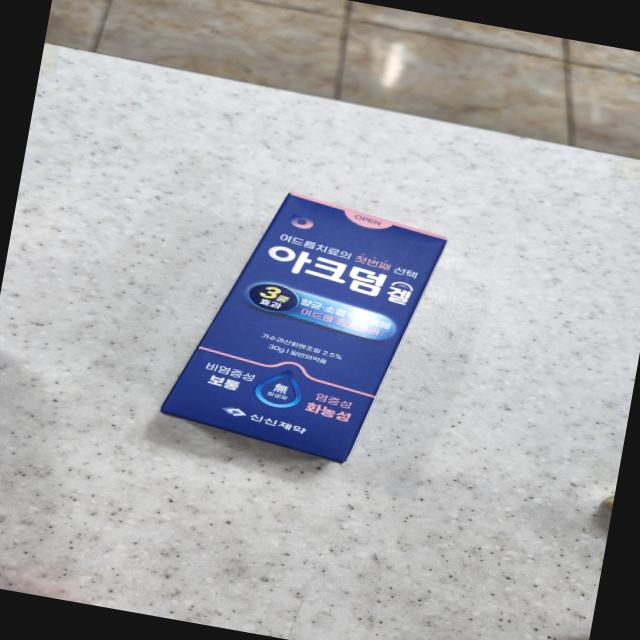box: (159, 180, 446, 472)
